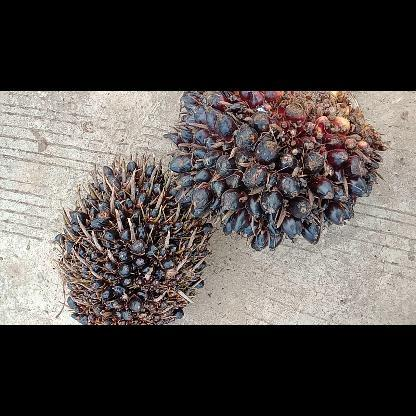TBS mentah: (160, 90, 392, 252), (52, 155, 216, 324)
